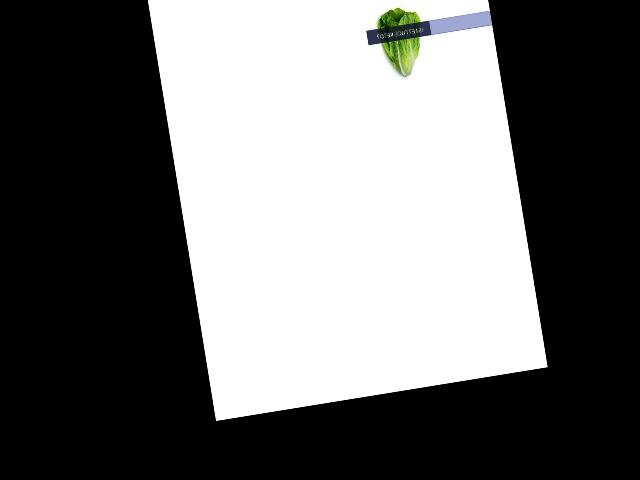lettuce: (371, 4, 431, 86)
